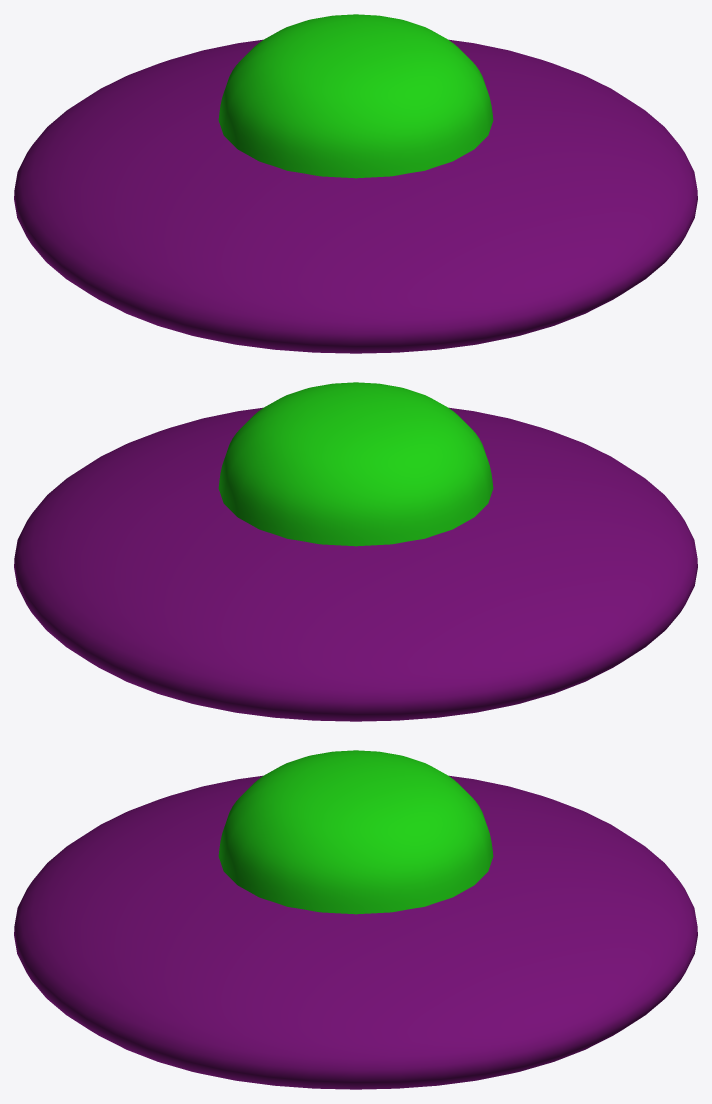
Rendered from basic alien ship.dae.
The picture shows the model from 3 angles, top to bottom: view 1: azimuth 30°, elevation 25°; view 2: azimuth 150°, elevation 25°; view 3: azimuth 270°, elevation 25°; orthographic projection.
Visible parts, largest first — view 1: Body, Dome; view 2: Body, Dome; view 3: Body, Dome.
Boxes of the visible parts, x1,y1,x2,y2 form: Body: [14, 39, 697, 353]; Dome: [218, 14, 493, 178]; Body: [14, 407, 697, 721]; Dome: [218, 382, 493, 546]; Body: [14, 775, 697, 1089]; Dome: [218, 750, 493, 914].
Bounding box in the file's own units: 2.86 × 1 × 2.88.
